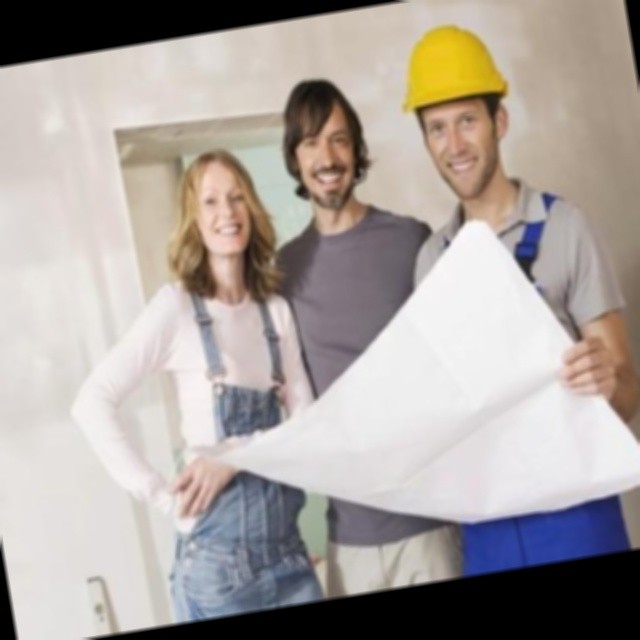Con_Casco: (401, 20, 522, 196)
Sin_Casco_Mascarrilla: (167, 146, 274, 288), (278, 70, 381, 210)
